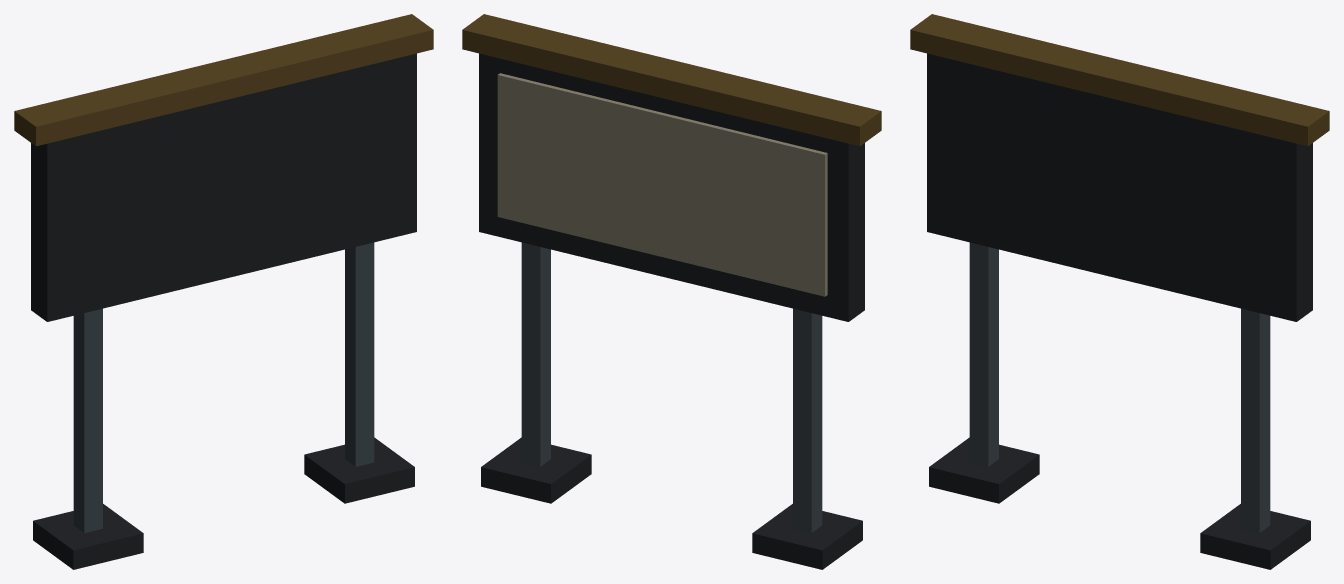
Rendered from lp_hours_sign.glb.
The picture shows the model from 3 angles, left to right: view 1: azimuth 30°, elevation 25°; view 2: azimuth 150°, elevation 25°; view 3: azimuth 330°, elevation 25°; orthographic projection.
Visible parts, largest first — view 1: lp_hours_sign; view 2: lp_hours_sign; view 3: lp_hours_sign.
Part boxes in pixels (box(x1,y1,x2,y2)): lp_hours_sign: box(14, 14, 433, 569); lp_hours_sign: box(462, 14, 881, 569); lp_hours_sign: box(910, 14, 1329, 569).
Bounding box in the file's own units: 1.7 × 1.81 × 0.3.
Materials: 1 (1 with a texture image).
